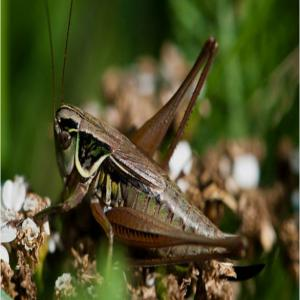locust: (47, 70, 238, 282)
